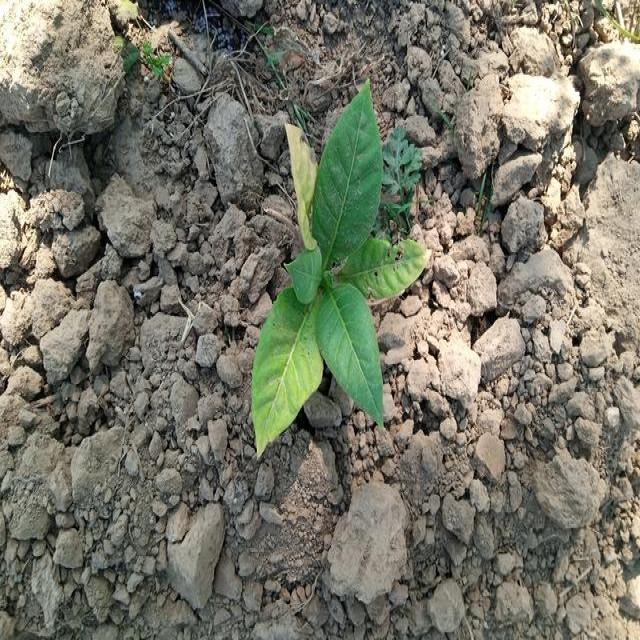crop: (252, 78, 426, 434)
